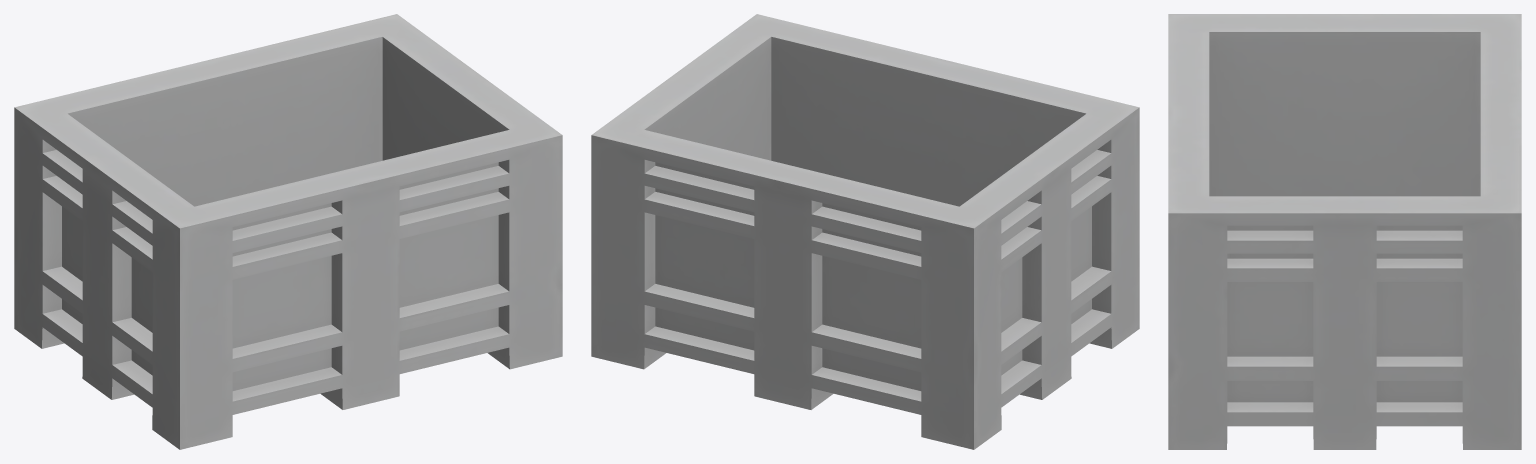
File: Pfb_PlasticPallet.fbx
3 renders of one model, left to right at view 1: azimuth 30°, elevation 25°; view 2: azimuth 150°, elevation 25°; view 3: azimuth 270°, elevation 25°, orthographic. The views are drawn at different scales.
Parts seen in each view (by area): view 1: Mat_PlasticPallet_01; view 2: Mat_PlasticPallet_01; view 3: Mat_PlasticPallet_01.
Part boxes in pixels (x1=…): Mat_PlasticPallet_01: x1=14, y1=14, x2=562, y2=449; Mat_PlasticPallet_01: x1=591, y1=14, x2=1139, y2=449; Mat_PlasticPallet_01: x1=1168, y1=14, x2=1521, y2=449.
Bounding box in the file's own units: 1.47 × 0.8149 × 1.1.
1 material, 1 textured.
